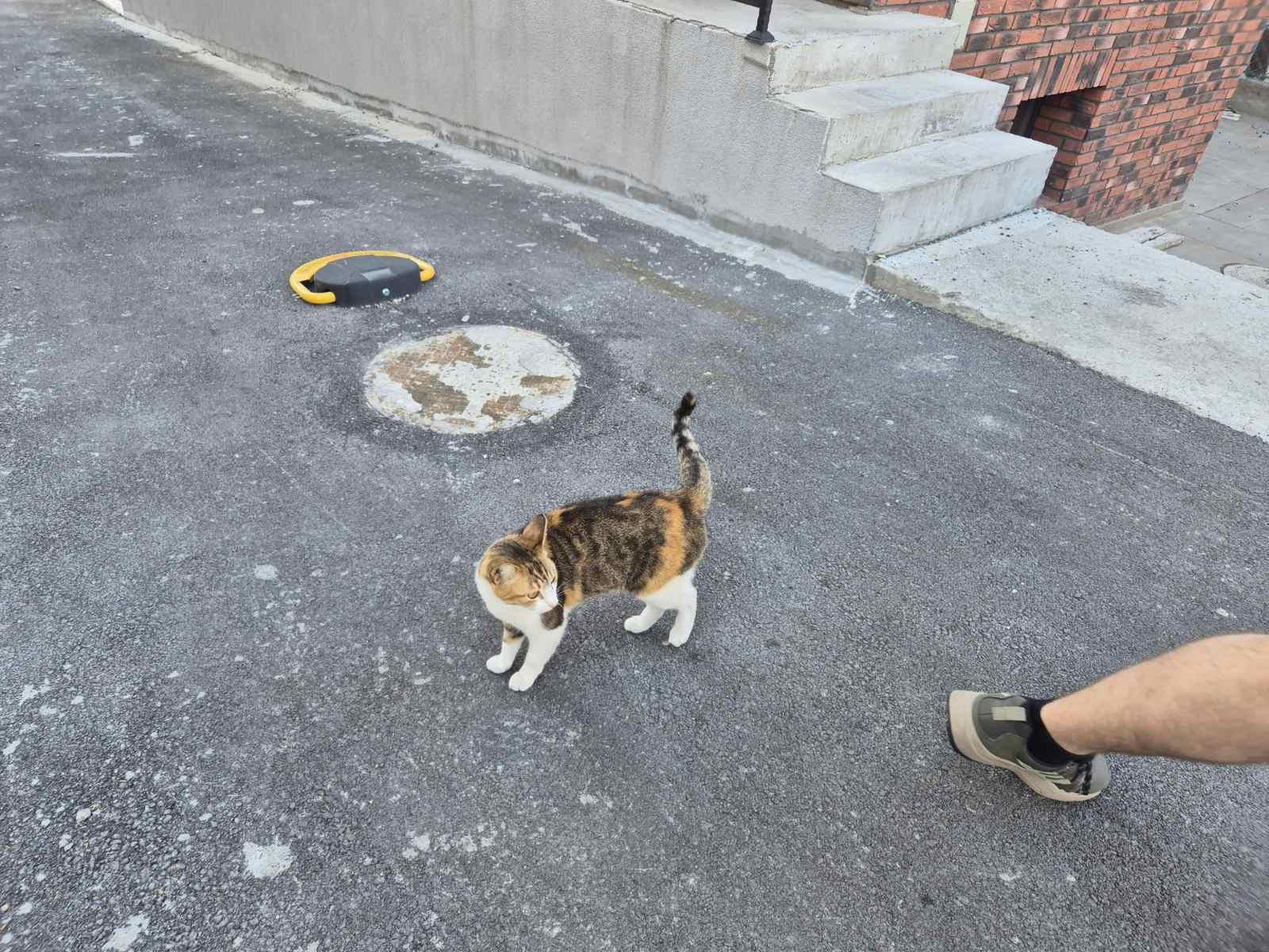macka: (474, 392, 713, 692)
